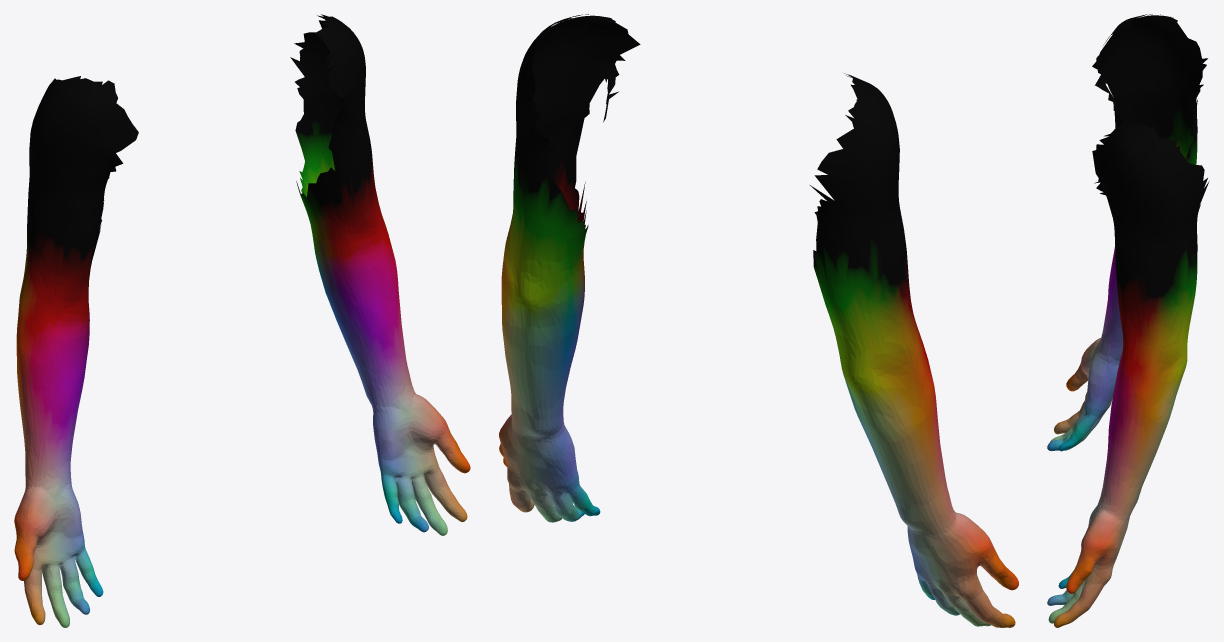
The model's file is limb.glb.
3 renders of one model, left to right at view 1: azimuth 30°, elevation 25°; view 2: azimuth 150°, elevation 25°; view 3: azimuth 270°, elevation 25°, orthographic. The views are drawn at different scales.
Parts seen in each view (by area): view 1: ct_rad, ct_ax, ct_mcf, ct_lcf, ct_medn, ct_mpb, ct_uln, ct_mca; view 2: ct_rad, ct_ax, ct_lcf, ct_mcf, ct_uln, ct_mca, ct_medn; view 3: ct_ax, ct_rad, ct_lcf, ct_medn, ct_uln, ct_mcf, ct_mpb, ct_mca.
Part boxes in pixels (x1,y1,x2,y2): ct_rad: (14,42,434,577); ct_ax: (29,14,365,202); ct_mcf: (56,144,401,494); ct_lcf: (16,218,421,493); ct_medn: (14,427,470,627); ct_mpb: (16,396,448,568); ct_uln: (61,401,426,613); ct_mca: (94,29,350,258); ct_rad: (499,101,1003,619); ct_ax: (516,14,899,225); ct_lcf: (501,253,964,540); ct_mcf: (536,181,911,529); ct_uln: (530,423,941,606); ct_mca: (550,16,857,330); ct_medn: (503,457,1018,627); ct_ax: (1098,14,1204,242); ct_rad: (1086,58,1209,605); ct_lcf: (1098,245,1181,531); ct_medn: (1047,363,1095,627); ct_uln: (1047,350,1118,599); ct_mcf: (1096,246,1123,504); ct_mpb: (1081,338,1108,580); ct_mca: (1092,22,1186,195).
Size of the model in its own units: 0.667 by 0.7018 by 0.2217.
